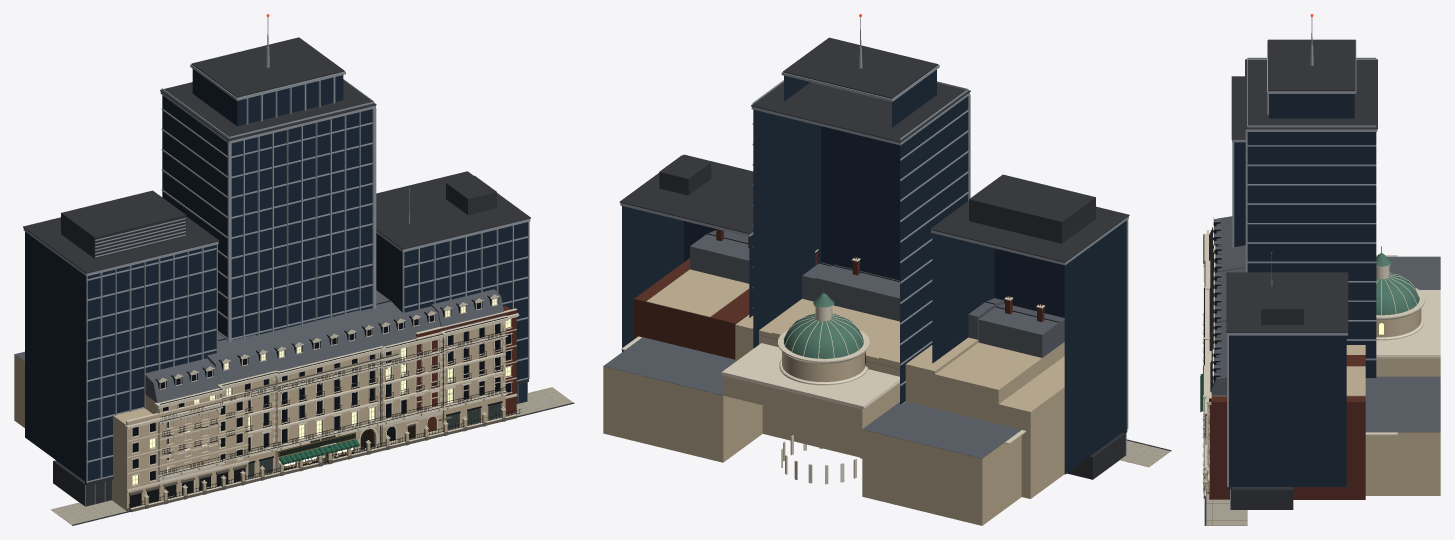
File: facades.glb
3 renders of one model, left to right at view 1: azimuth 30°, elevation 25°; view 2: azimuth 150°, elevation 25°; view 3: azimuth 270°, elevation 25°, orthographic. The views are drawn at different scales.
Visible parts, largest first — view 1: office_curtain, office_granite_dark, office_alum, jewelry_trim, jewelry_stone, jewelry_slate, jewelry_iron, bank_stone, bank_trim, jewelry_win_dark, bank_brick, office_plaza (+9 smaller); view 2: office_curtain, office_granite_dark, museum_stone, jewelry_stone, bank_stone, jewelry_slate, museum_slate, museum_trim, office_alum, bank_brick, museum_copper, office_plaza; view 3: office_curtain, office_granite_dark, museum_stone, museum_slate, office_alum, bank_brick, museum_trim, jewelry_slate, jewelry_trim, museum_copper, jewelry_stone, jewelry_iron (+2 smaller).
Part boxes in pixels (left/top/right/bottom): office_curtain: left=25, top=69, right=527, bottom=481; office_granite_dark: left=23, top=37, right=574, bottom=525; office_alum: left=23, top=17, right=530, bottom=506; jewelry_trim: left=154, top=294, right=509, bottom=498; jewelry_stone: left=145, top=322, right=505, bottom=476; jewelry_slate: left=145, top=289, right=504, bottom=402; jewelry_iron: left=155, top=295, right=507, bottom=500; bank_stone: left=112, top=393, right=248, bottom=510; bank_trim: left=125, top=308, right=519, bottom=492; jewelry_win_dark: left=161, top=303, right=499, bottom=450; bank_brick: left=416, top=306, right=516, bottom=431; office_plaza: left=50, top=387, right=572, bottom=524; office_curtain: left=622, top=70, right=1126, bottom=474; office_granite_dark: left=619, top=37, right=1171, bottom=479; museum_stone: left=603, top=351, right=1021, bottom=525; jewelry_stone: left=646, top=269, right=1064, bottom=404; bank_stone: left=759, top=335, right=1064, bottom=498; jewelry_slate: left=690, top=230, right=1064, bottom=357; museum_slate: left=603, top=337, right=1021, bottom=458; museum_trim: left=621, top=304, right=1026, bottom=484; office_alum: left=620, top=17, right=1128, bottom=455; bank_brick: left=634, top=258, right=749, bottom=359; museum_copper: left=783, top=293, right=863, bottom=358; office_plaza: left=1120, top=443, right=1170, bottom=467; office_curtain: left=1229, top=94, right=1376, bottom=486; office_granite_dark: left=1204, top=39, right=1377, bottom=525; museum_stone: left=1203, top=308, right=1440, bottom=495; museum_slate: left=1365, top=256, right=1440, bottom=432; office_alum: left=1226, top=17, right=1377, bottom=509; bank_brick: left=1209, top=355, right=1365, bottom=499; museum_trim: left=1202, top=255, right=1440, bottom=496; jewelry_slate: left=1209, top=216, right=1245, bottom=395; jewelry_trim: left=1203, top=217, right=1215, bottom=492; museum_copper: left=1376, top=253, right=1419, bottom=315; jewelry_stone: left=1207, top=345, right=1365, bottom=491; jewelry_iron: left=1200, top=217, right=1221, bottom=475.
Bounding box in the file's own units: 104 × 82.98 × 44.82.
